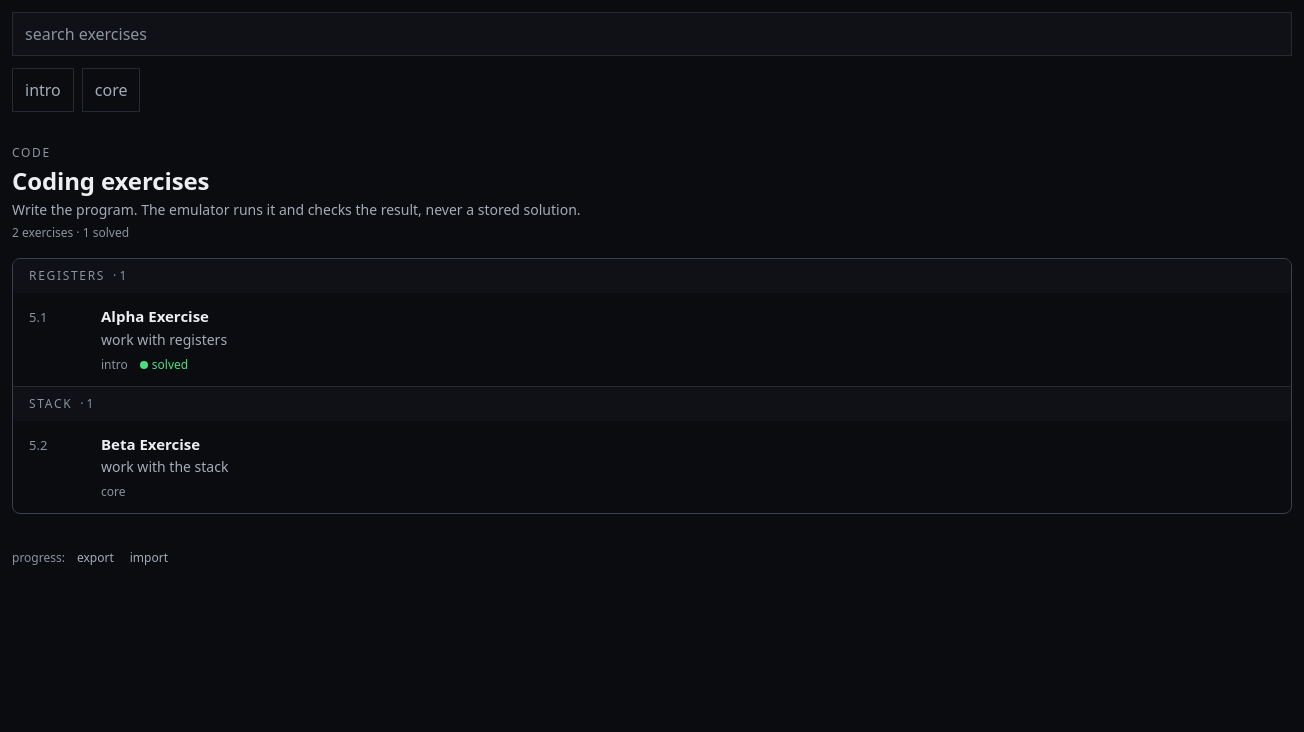
ExerciseIndex › filters by the search query (title and topic) with an accessible search name
Type "Alpha" into the search field labelled "search exercises" at [652, 34], box x1=12 y1=12 x2=1292 y2=56
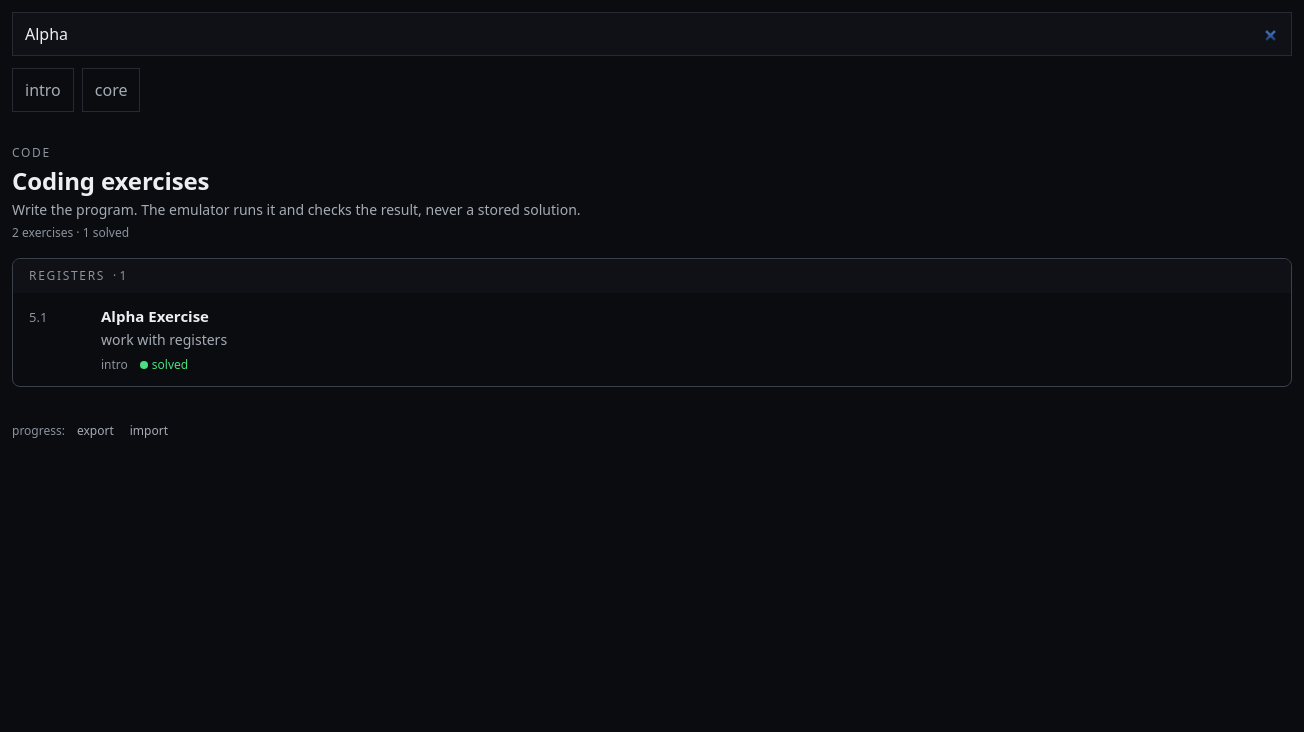
Expected: the text "Alpha Exercise" is shown, x1=101 y1=306 x2=209 y2=326
Result: the link "Beta Exercise" is gone
Replace the text in the search field named "search exercises" with "stack" at [652, 34], box x1=12 y1=12 x2=1292 y2=56
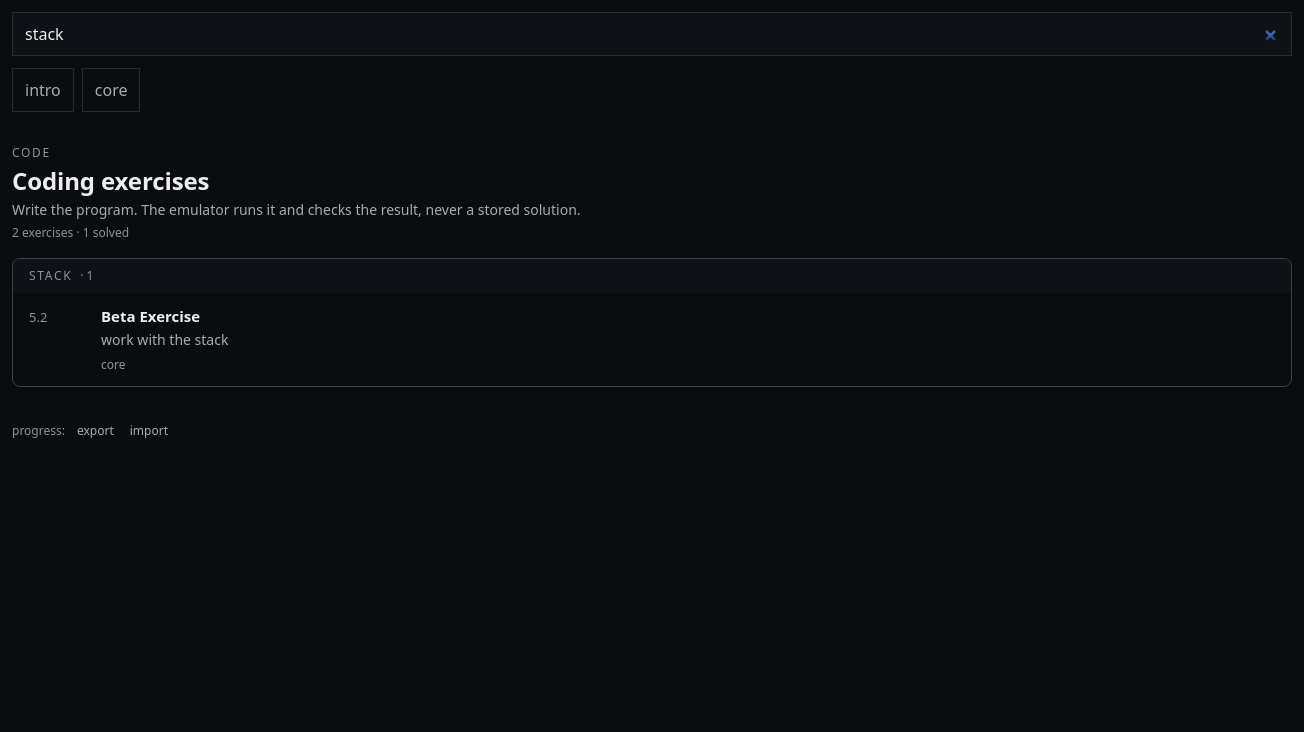
Result: the text "Beta Exercise" is shown at x1=101 y1=306 x2=200 y2=326
Result: the link "Alpha Exercise" is gone
